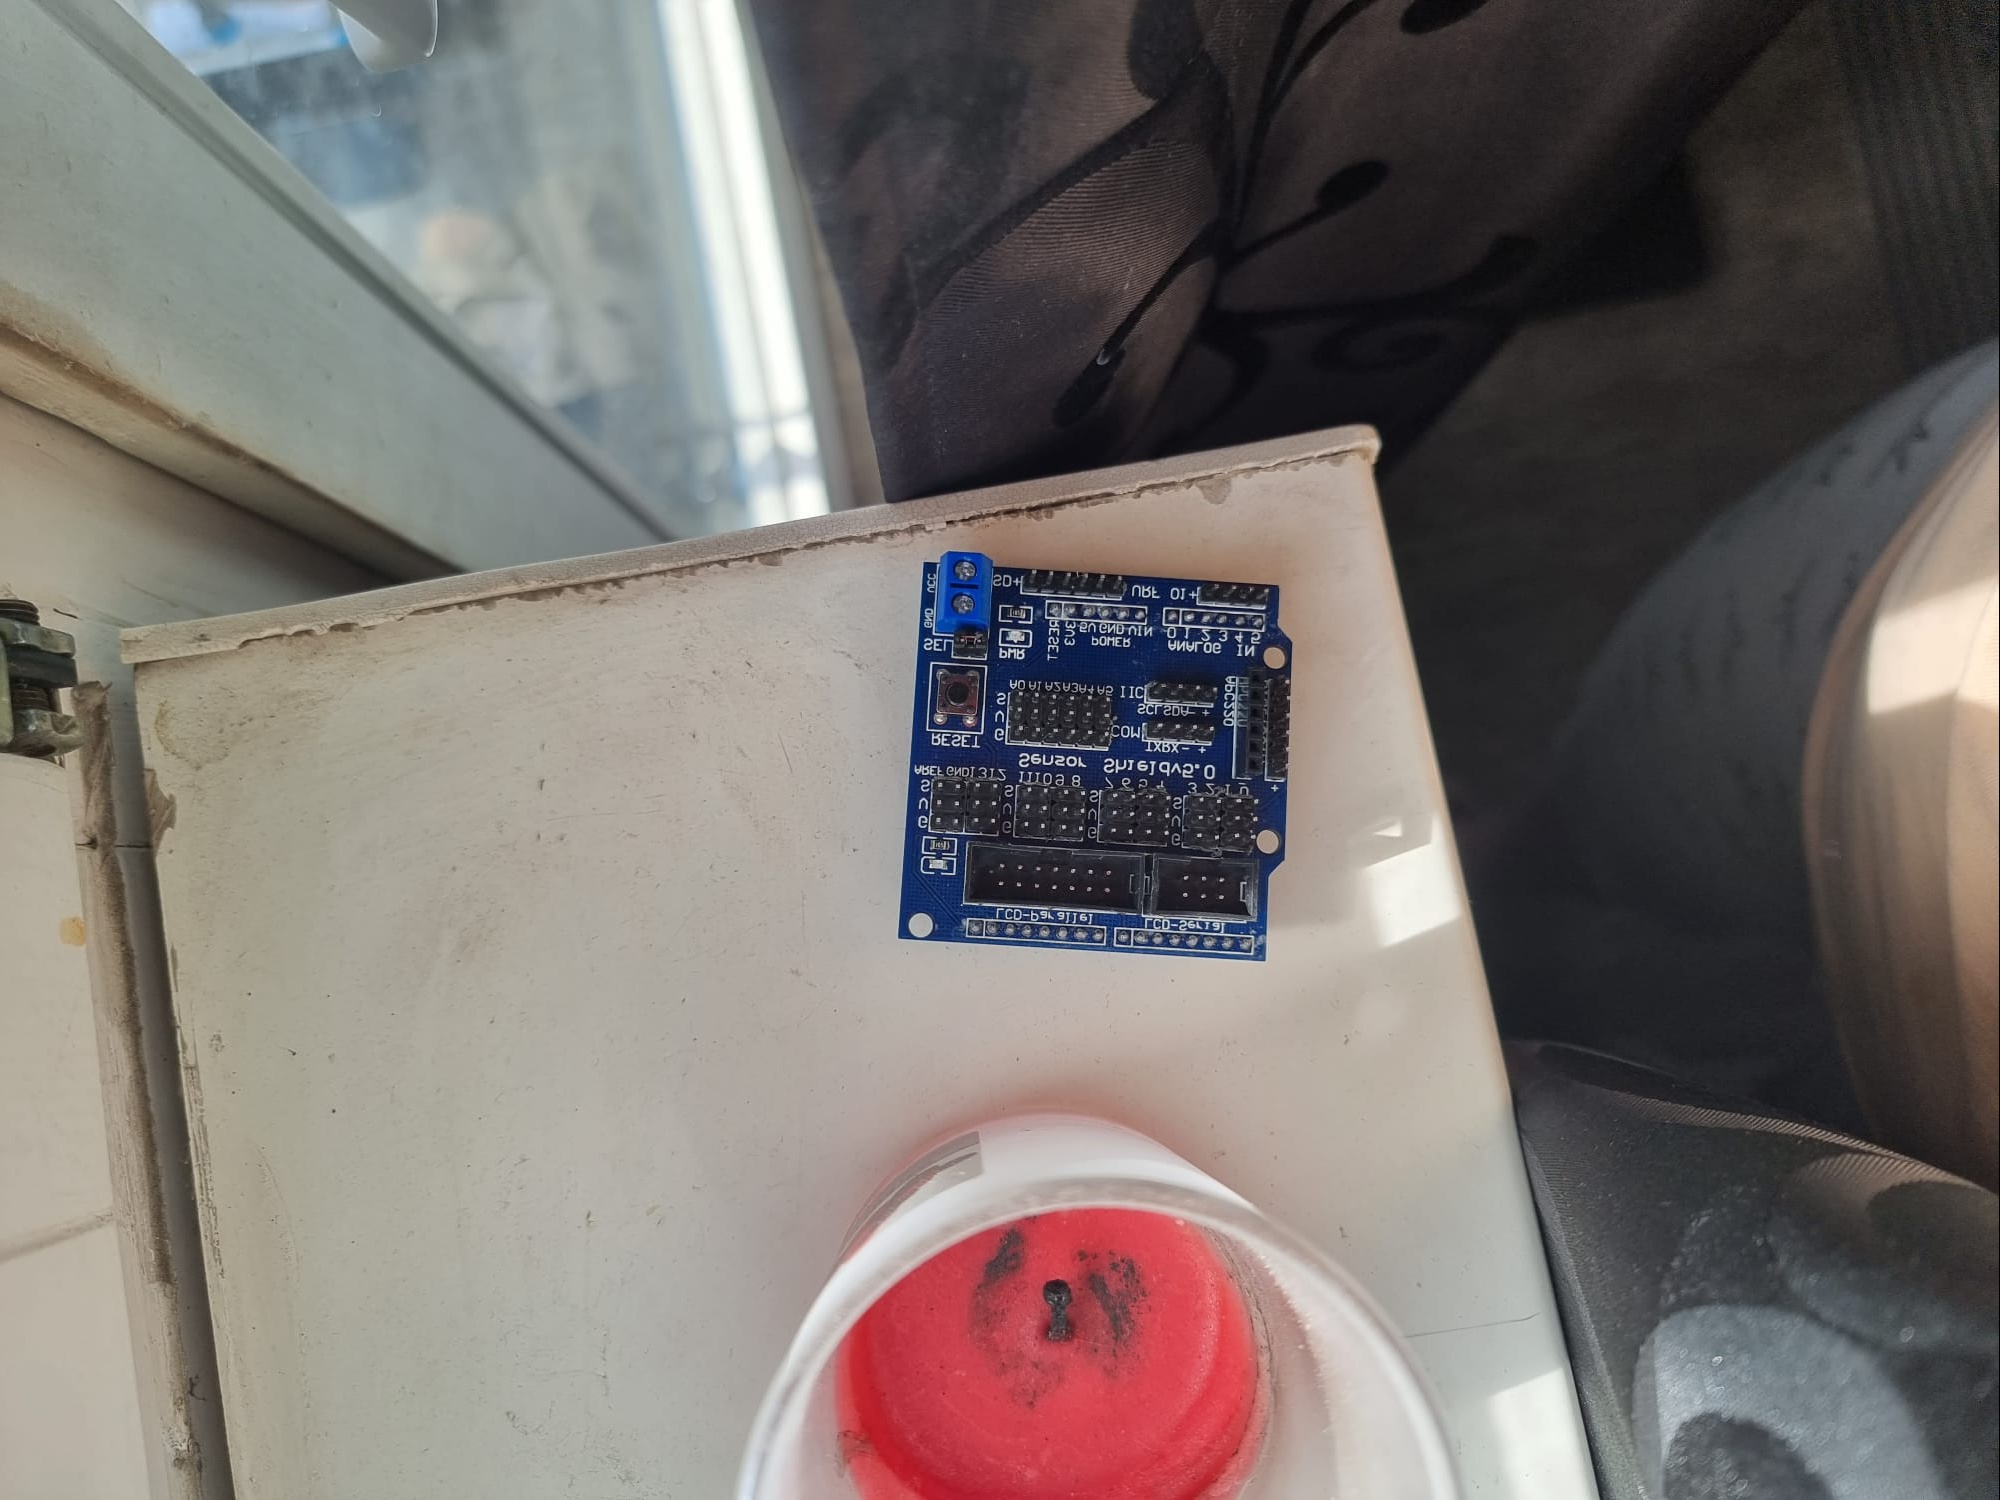5V EXPANSION: (894, 561, 1306, 978)
